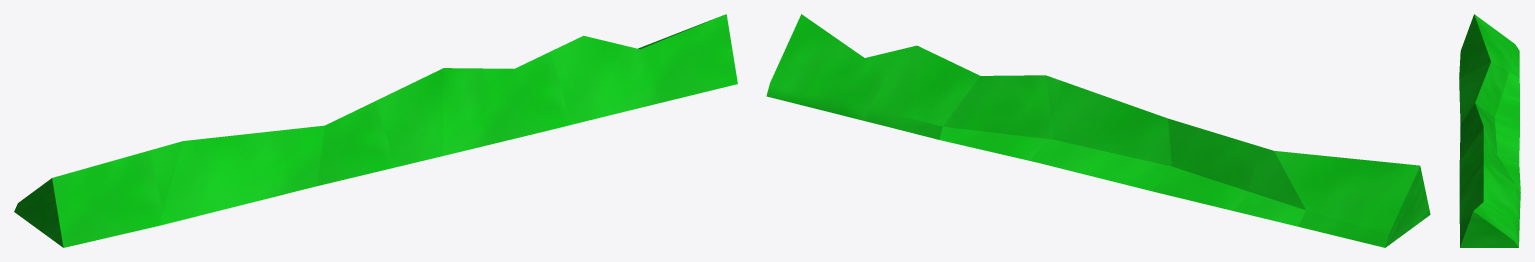
The model's file is Borders.fbx.
3 renders of one model, left to right at view 1: azimuth 30°, elevation 25°; view 2: azimuth 150°, elevation 25°; view 3: azimuth 270°, elevation 25°, orthographic. The views are drawn at different scales.
Parts seen in each view (by area): view 1: pCube1; view 2: pCube1; view 3: pCube1.
Boxes of the visible parts, x1=… form: pCube1: x1=14, y1=14, x2=737, y2=247; pCube1: x1=766, y1=14, x2=1430, y2=247; pCube1: x1=1459, y1=14, x2=1520, y2=247.
Size of the model in its own units: 4861 by 471 by 643.
